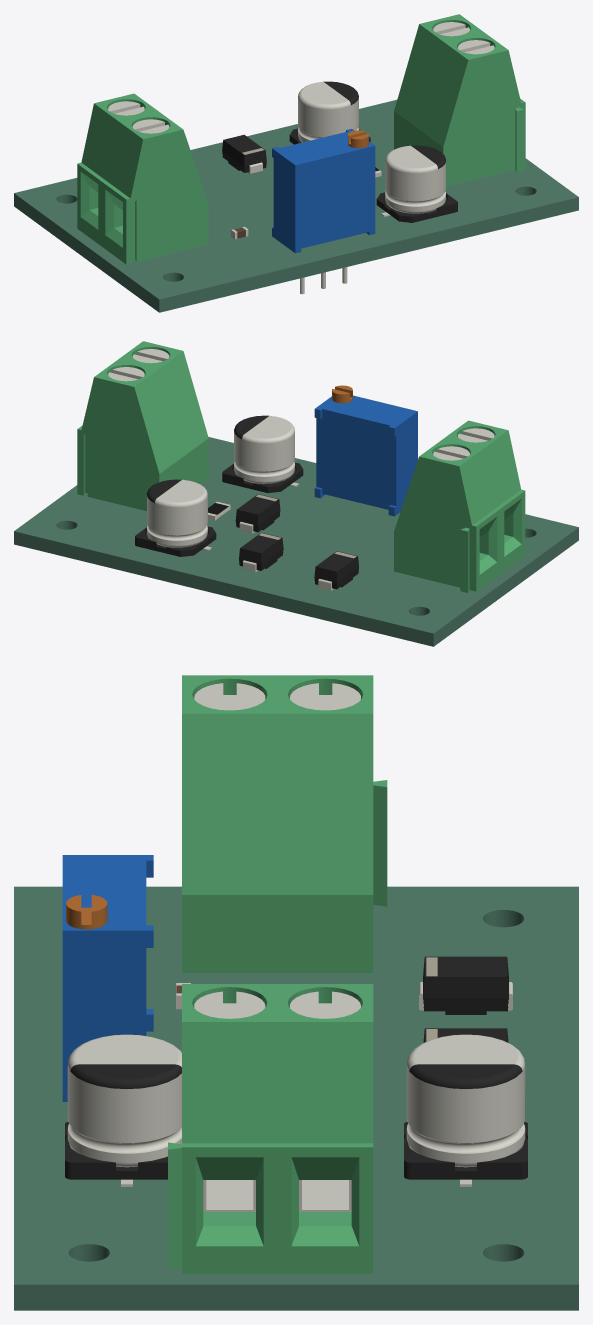
Rendered from LM317_Regulator.glb.
The picture shows the model from 3 angles, top to bottom: view 1: azimuth 30°, elevation 25°; view 2: azimuth 150°, elevation 25°; view 3: azimuth 270°, elevation 25°; orthographic projection. The views are drawn at different scales.
Visible parts, largest first — view 1: =>[0:1:1:9], J1, J2, RV1, C2, C3, D1; view 2: =>[0:1:1:9], J1, J2, RV1, C3, C2, D2, D1, D3; view 3: =>[0:1:1:9], J1, J2, C3, RV1, C2, D3, D1.
Part boxes in pixels (<box>): =>[0:1:1:9]: <box>14,99,578,312</box>; J1: <box>77,93,208,264</box>; J2: <box>394,14,525,186</box>; RV1: <box>272,128,375,294</box>; C2: <box>376,145,457,222</box>; C3: <box>289,81,370,144</box>; D1: <box>222,134,266,174</box>; =>[0:1:1:9]: <box>14,437,578,646</box>; J1: <box>394,420,525,592</box>; J2: <box>77,341,208,510</box>; RV1: <box>314,385,417,516</box>; C3: <box>135,479,216,556</box>; C2: <box>222,415,303,492</box>; D2: <box>235,494,280,533</box>; D1: <box>239,532,283,572</box>; D3: <box>314,551,358,590</box>; =>[0:1:1:9]: <box>14,886,578,1310</box>; J1: <box>182,675,387,972</box>; J2: <box>168,984,373,1273</box>; C3: <box>404,1034,527,1186</box>; RV1: <box>62,855,153,1101</box>; C2: <box>65,1034,181,1186</box>; D3: <box>419,956,512,1014</box>; D1: <box>423,1028,508,1042</box>.
Size of the model in its own units: 0.05 by 0.0198 by 0.03.
